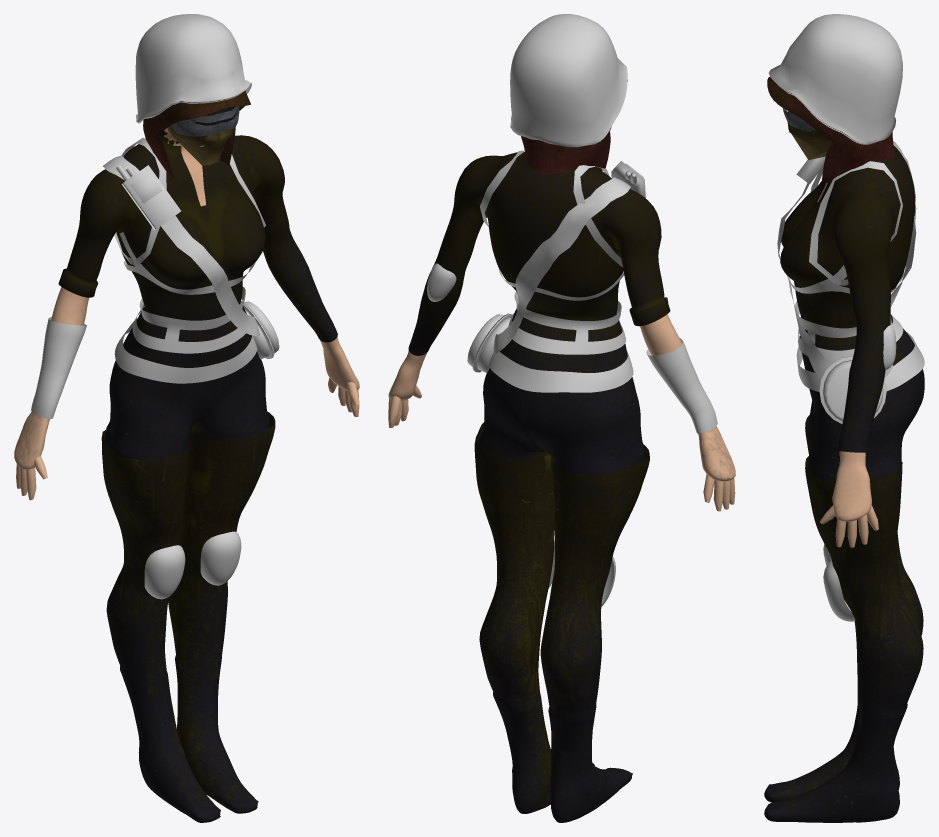
Rendered from Main_character_v3.fbx.
3 renders of one model, left to right at view 1: azimuth 30°, elevation 25°; view 2: azimuth 150°, elevation 25°; view 3: azimuth 270°, elevation 25°, orthographic. The views are drawn at different scales.
Visible parts, largest first — view 1: pPlane3; view 2: pPlane3; view 3: pPlane3.
Part boxes in pixels (bbox=[...]): pPlane3: bbox=[14, 14, 359, 822]; pPlane3: bbox=[388, 14, 735, 822]; pPlane3: bbox=[764, 14, 924, 822].
Size of the model in its own units: 72.61 by 158 by 29.23.
